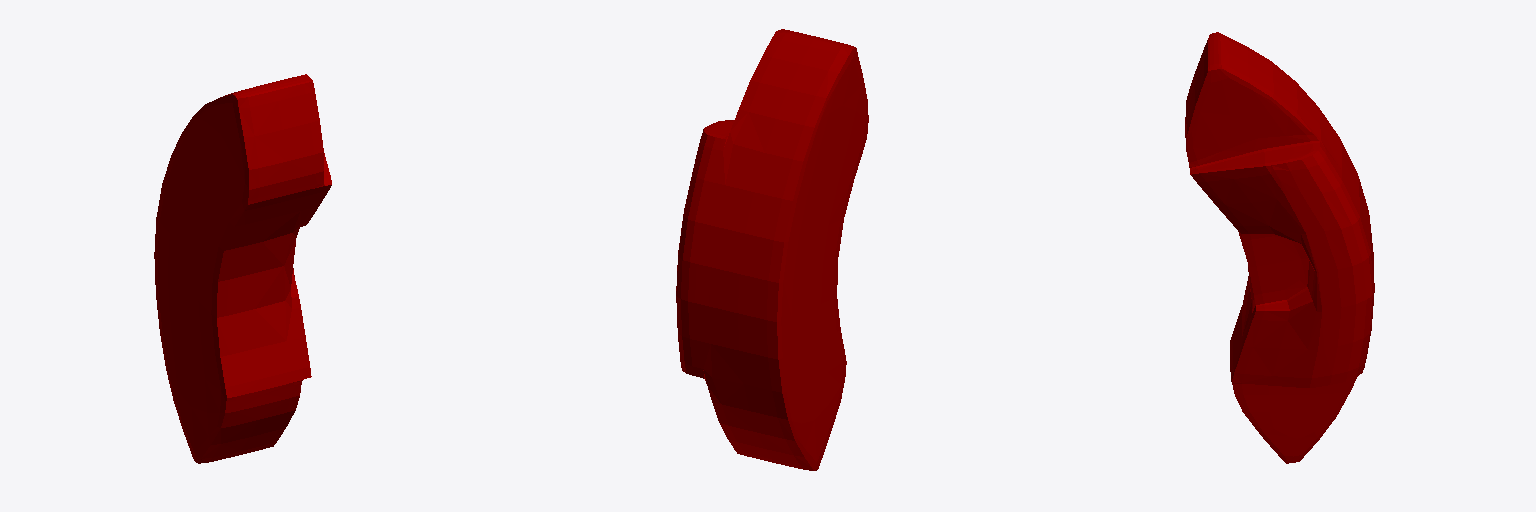
Rendered from brake.obj.
3 views of the same model, side by side, from view 1: azimuth 30°, elevation 25°; view 2: azimuth 150°, elevation 25°; view 3: azimuth 270°, elevation 25° (orthographic).
Parts seen in each view (by area): view 1: s0_r0_t00_brake_caliper_00_HDM_02_06_brake_caliper_00; view 2: s0_r0_t00_brake_caliper_00_HDM_02_06_brake_caliper_00; view 3: s0_r0_t00_brake_caliper_00_HDM_02_06_brake_caliper_00.
Boxes of the visible parts, x1,y1,x2,y2 form: s0_r0_t00_brake_caliper_00_HDM_02_06_brake_caliper_00: [154, 74, 331, 463]; s0_r0_t00_brake_caliper_00_HDM_02_06_brake_caliper_00: [676, 29, 868, 470]; s0_r0_t00_brake_caliper_00_HDM_02_06_brake_caliper_00: [1185, 32, 1374, 463].
Size of the model in its own units: 0.8623 by 2.92 by 1.26.